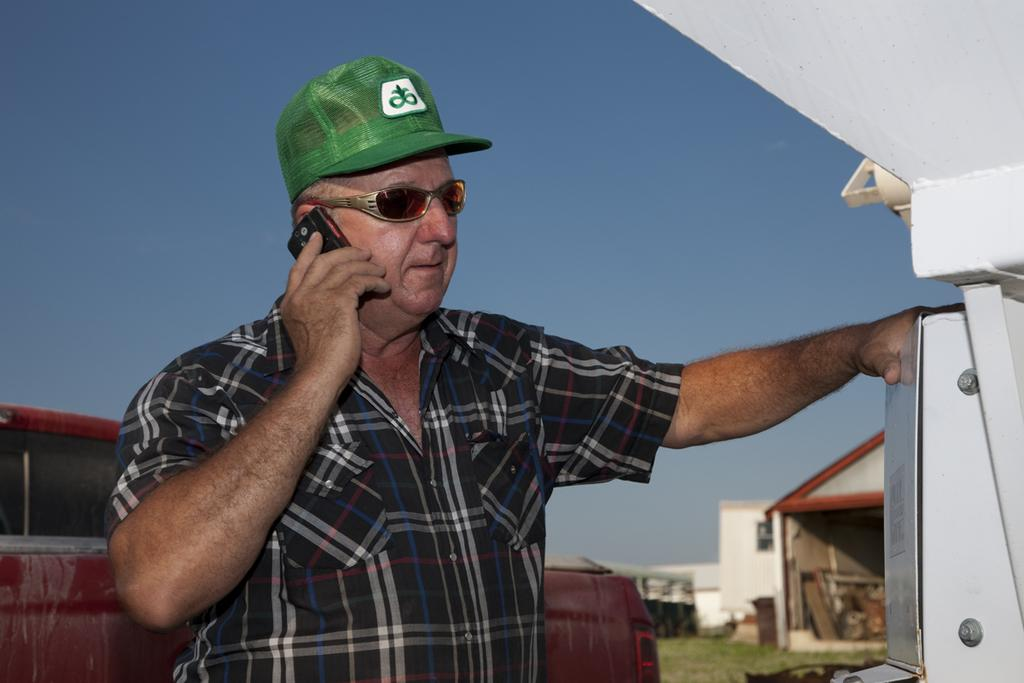Hat: (279, 59, 493, 203)
